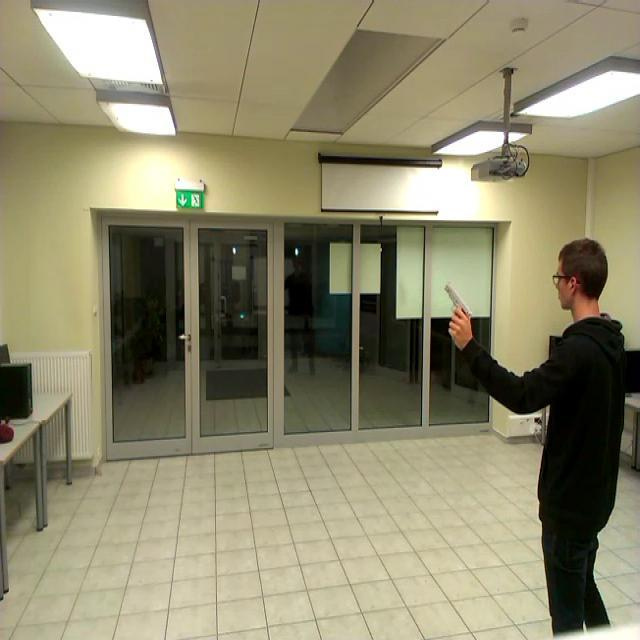Gun: (445, 279, 473, 333)
